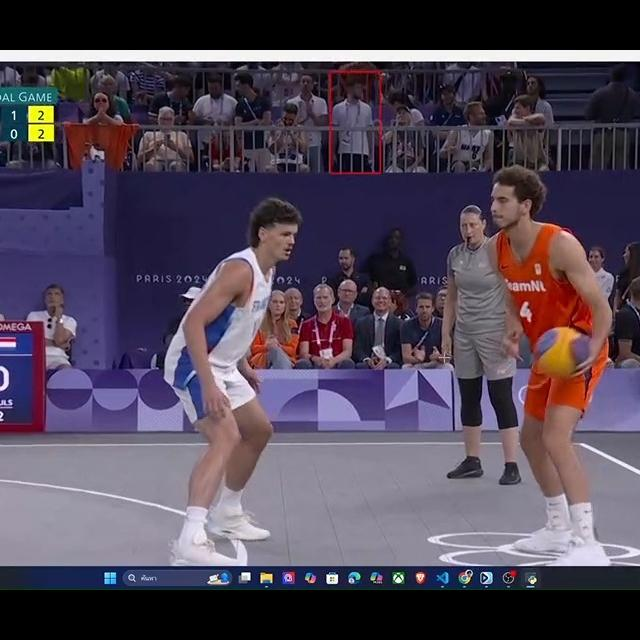basketball: (533, 326, 590, 378)
